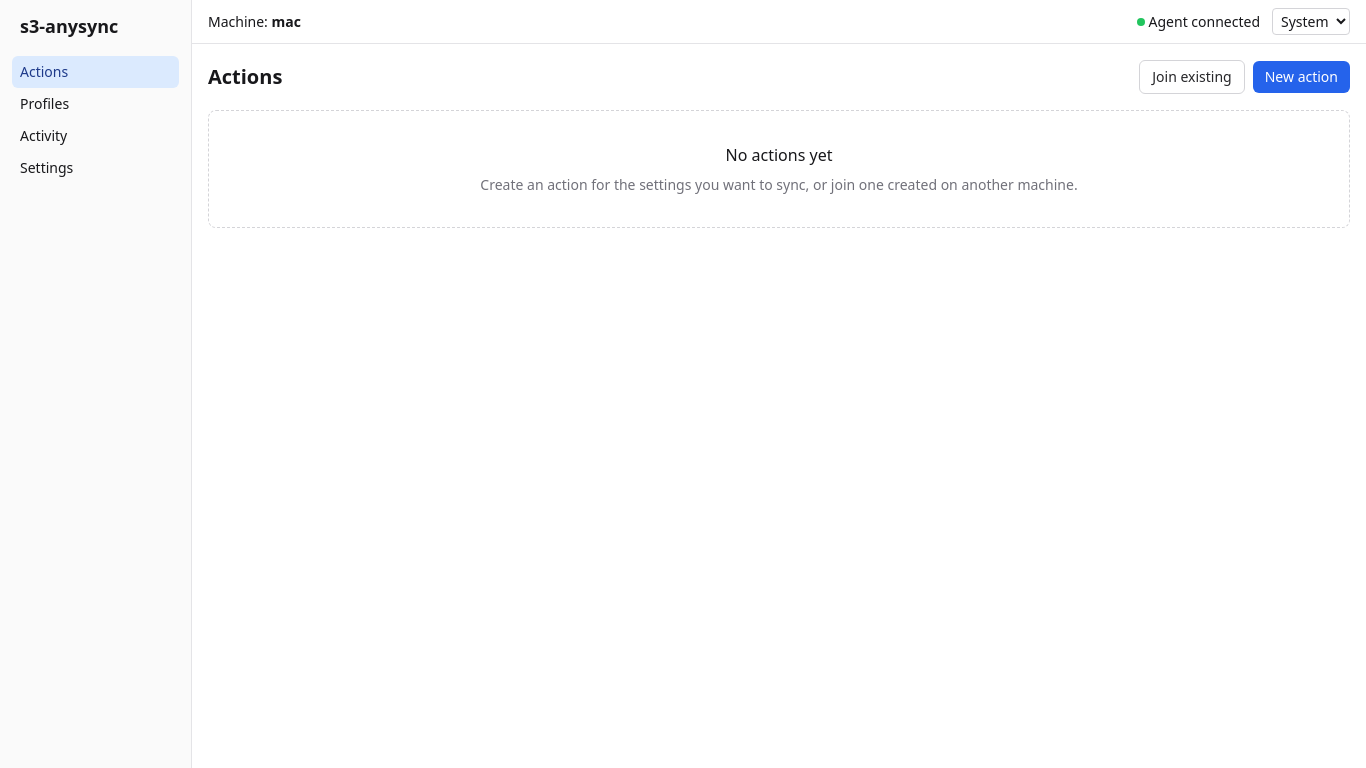
settings: autostart hidden when unsupported; save sends the whole value
Click the button "Settings": (96, 168) [12,152,179,184]
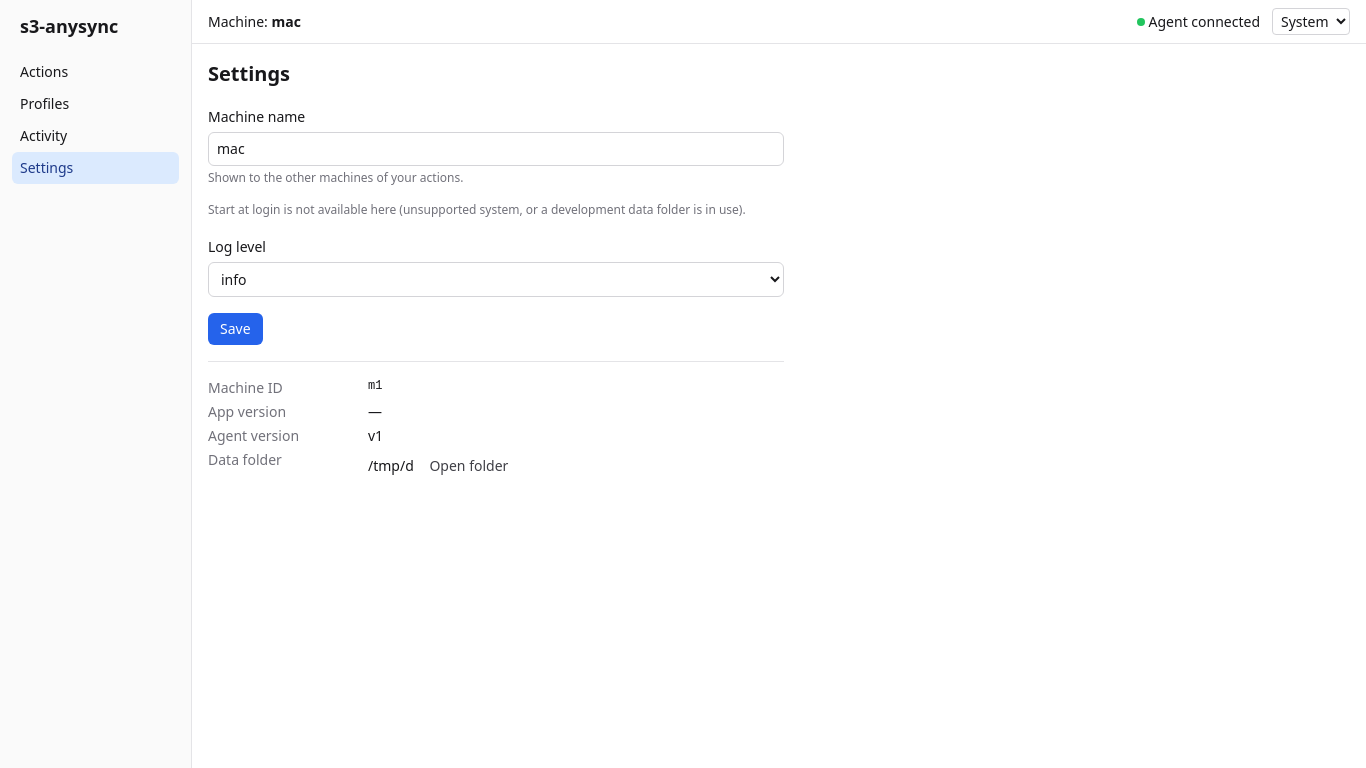
Now the field showing "mac" is shown
Replace the text in the field labelled "Machine name" with "studio": (496, 149) [208,132,784,166]
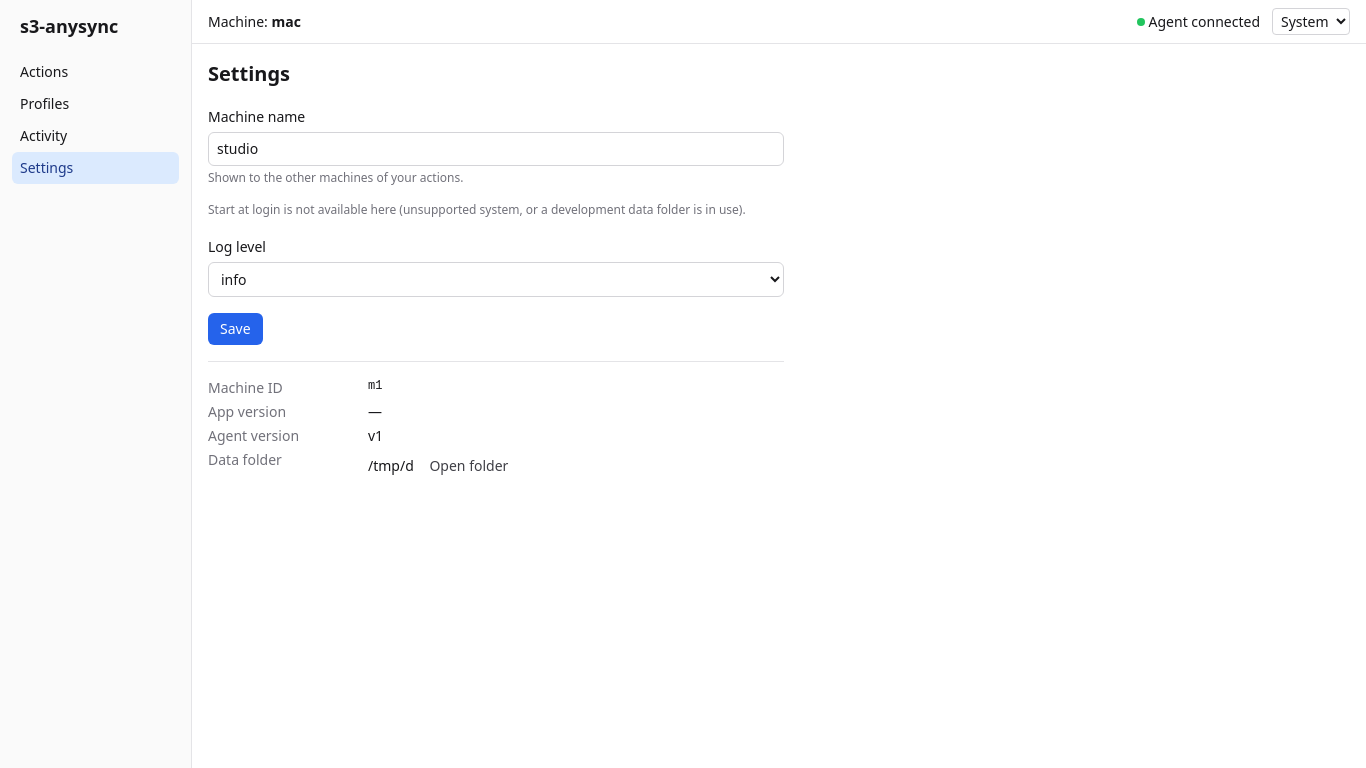
Select "debug" in the dropdown labelled "Log level": (496, 280) [208,262,784,297]
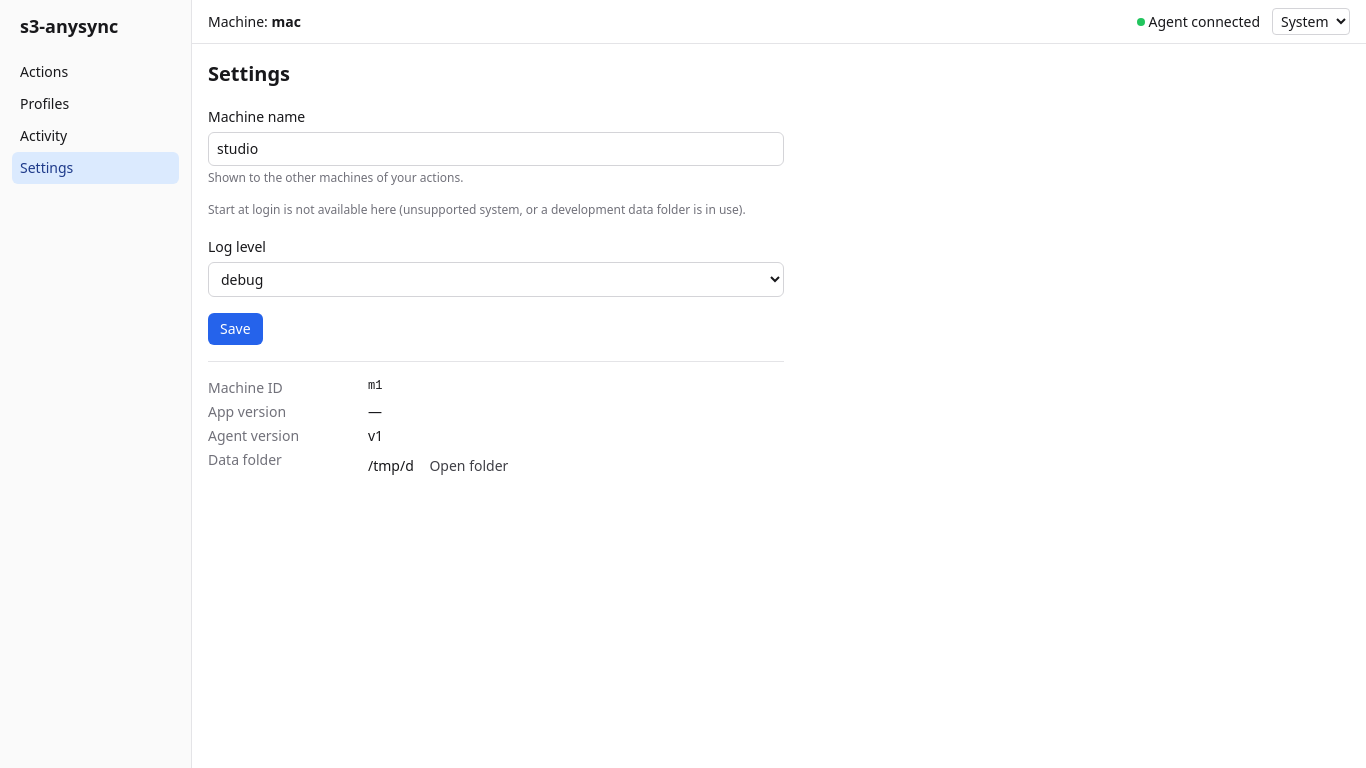
Click the button "Save": (235, 329) [208,313,263,345]
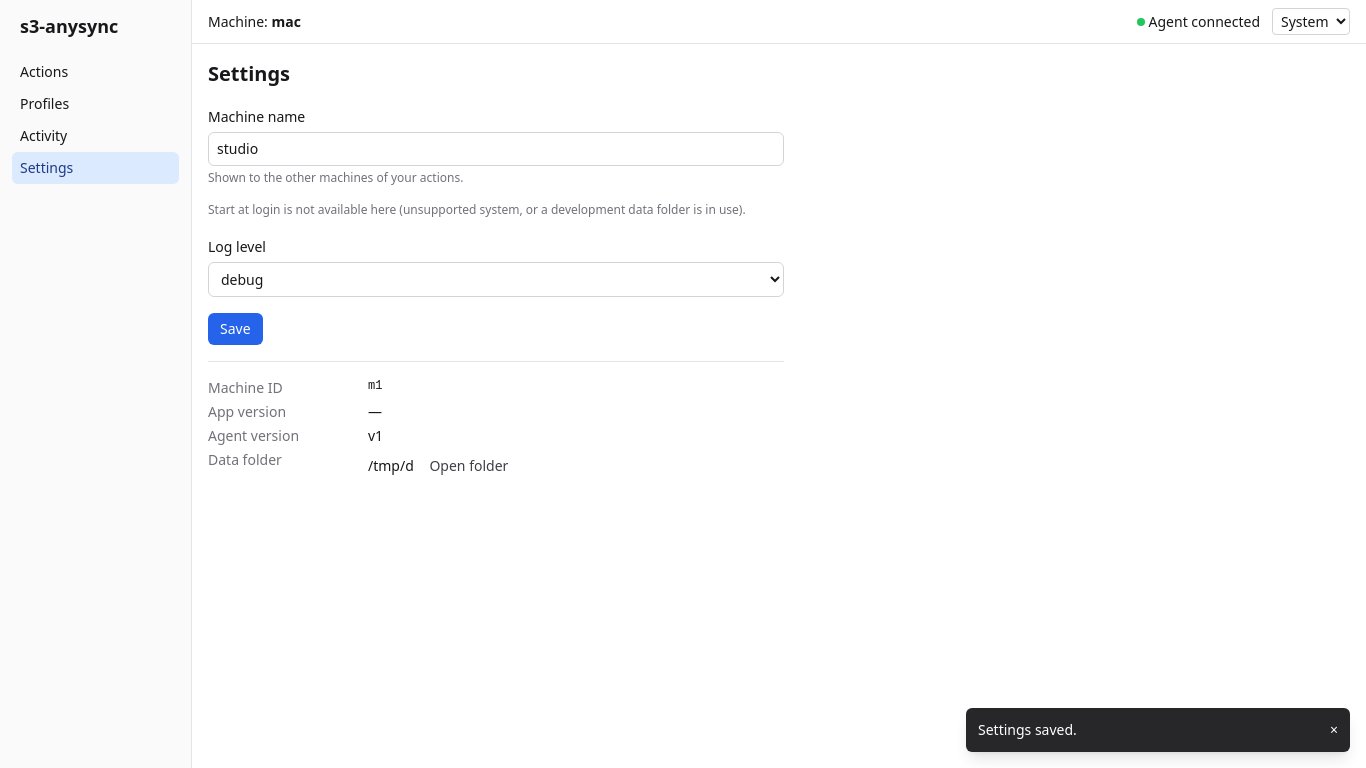
Now the text "Settings saved." is shown, box [978,720,1077,740]
